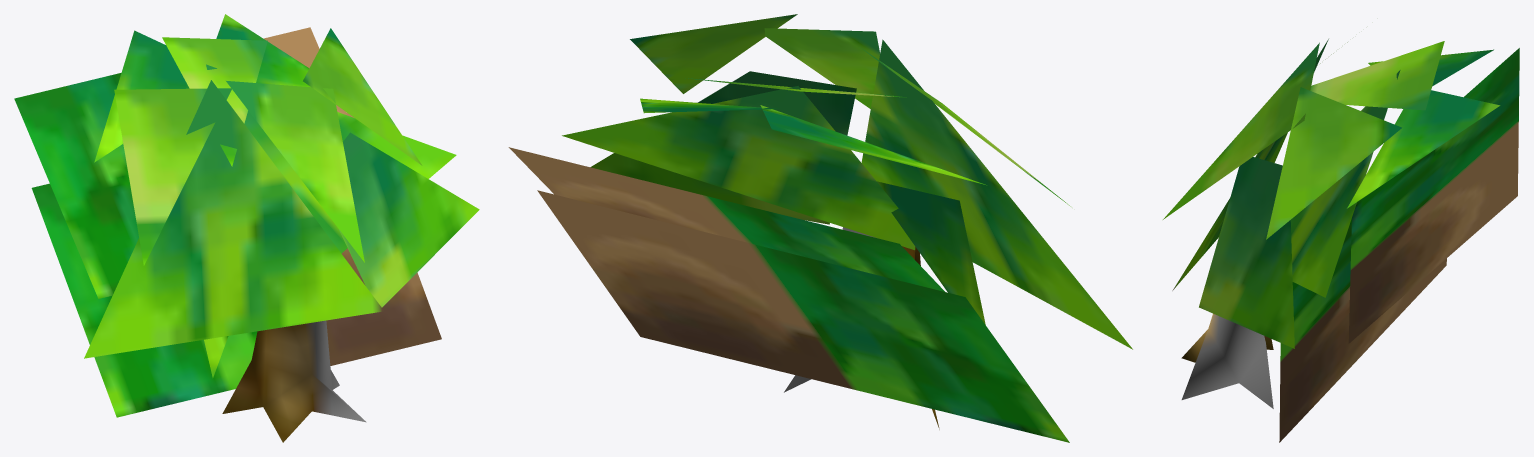
The model's file is fg_bushB_1.dae.
3 renders of one model, left to right at view 1: azimuth 30°, elevation 25°; view 2: azimuth 150°, elevation 25°; view 3: azimuth 270°, elevation 25°, orthographic. The views are drawn at different scales.
Visible parts, largest first — view 1: fg_bushB_1; view 2: fg_bushB_1; view 3: fg_bushB_1.
Part boxes in pixels (x1,y1,x2,y2): fg_bushB_1: (14, 14, 479, 442); fg_bushB_1: (508, 14, 1132, 442); fg_bushB_1: (1163, 39, 1519, 442).
Bounding box in the file's own units: 34.76 × 25.18 × 25.46.
Materials: 1 (1 with a texture image).
